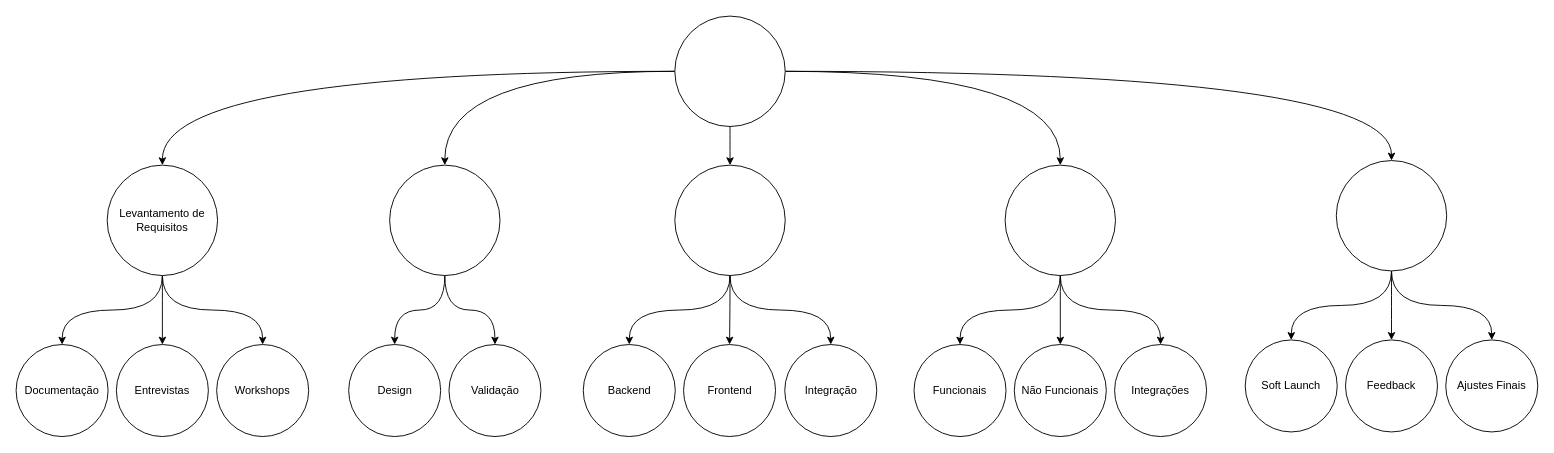
This 1554x453 diagram has some shape labels left out. The shapes that lost their labels are listed below. From the top down, each one's box as (x1, y1, x2, y2) in pixels, then its label:
(674, 15, 785, 126): Projeto de Desenvolvimento do App
(389, 164, 500, 276): Prototipação
(674, 164, 785, 276): Desenvolvimento
(1004, 164, 1116, 276): Testes
(1335, 160, 1447, 271): Lançamento
